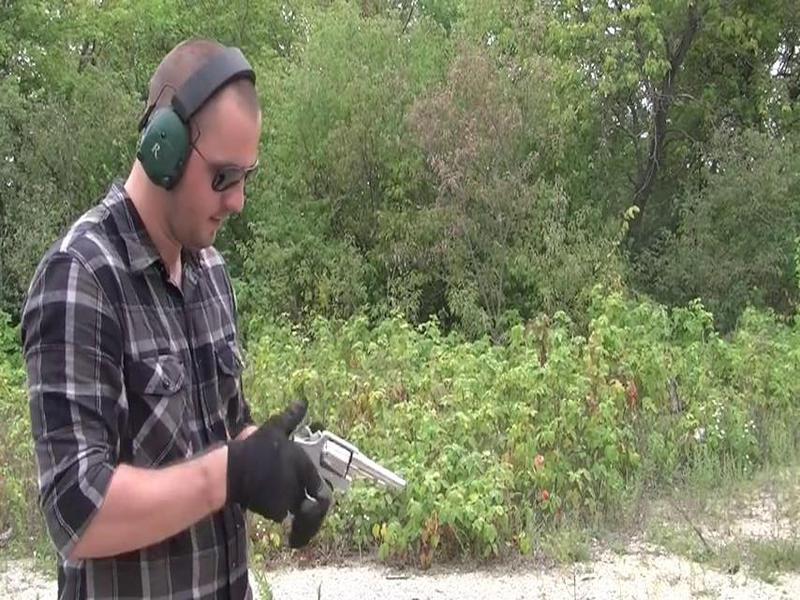Revolver: (257, 419, 426, 520)
